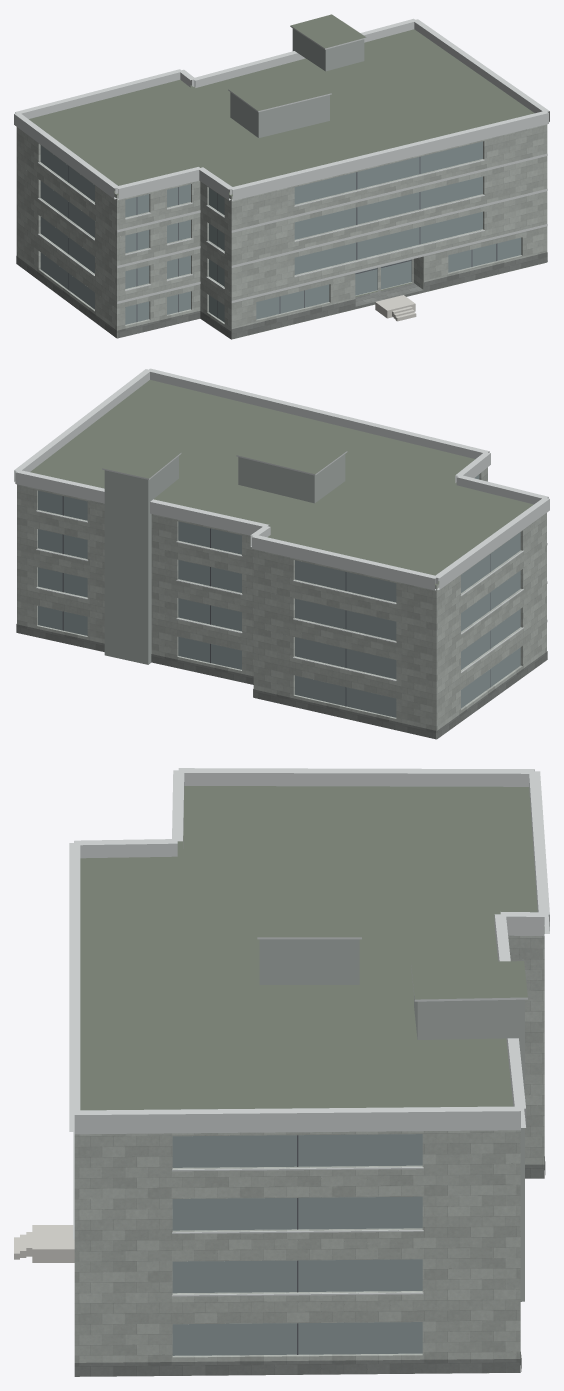
3 renders of one model, top to bottom at view 1: azimuth 30°, elevation 25°; view 2: azimuth 150°, elevation 25°; view 3: azimuth 270°, elevation 25°, orthographic. The views are drawn at different scales.
Parts seen in each view (by area): view 1: b69__wall, b69__roof, b69__glass, b69__trim, b69__base, b69__wall2, b69__entranceStair, b69__frame; view 2: b69__wall, b69__roof, b69__glass, b69__trim, b69__wall2, b69__base, b69__frame; view 3: b69__roof, b69__wall, b69__glass, b69__trim, b69__wall2, b69__base, b69__entranceStair.
Part boxes in pixels (x1=…): b69__wall: x1=16, y1=124, x2=547, y2=338; b69__roof: x1=29, y1=14, x2=544, y2=339; b69__glass: x1=40, y1=141, x2=521, y2=324; b69__trim: x1=14, y1=18, x2=549, y2=303; b69__base: x1=16, y1=252, x2=547, y2=339; b69__wall2: x1=230, y1=28, x2=364, y2=137; b69__entranceStair: x1=375, y1=295, x2=416, y2=321; b69__frame: x1=68, y1=157, x2=497, y2=321; b69__wall: x1=17, y1=467, x2=546, y2=739; b69__roof: x1=30, y1=380, x2=533, y2=585; b69__glass: x1=38, y1=474, x2=520, y2=717; b69__trim: x1=14, y1=368, x2=549, y2=681; b69__wall2: x1=104, y1=454, x2=345, y2=664; b69__base: x1=16, y1=624, x2=547, y2=739; b69__frame: x1=62, y1=496, x2=490, y2=706; b69__roof: x1=79, y1=786, x2=544, y2=1376; b69__wall: x1=74, y1=928, x2=544, y2=1362; b69__glass: x1=172, y1=1134, x2=422, y2=1355; b69__trim: x1=69, y1=768, x2=549, y2=1296; b69__wall2: x1=259, y1=939, x2=524, y2=1301; b69__base: x1=74, y1=1156, x2=545, y2=1376; b69__entranceStair: x1=14, y1=1225, x2=74, y2=1262.
Size of the model in its own units: 42.77 by 18.12 by 27.91.
9 materials, 2 textured.
